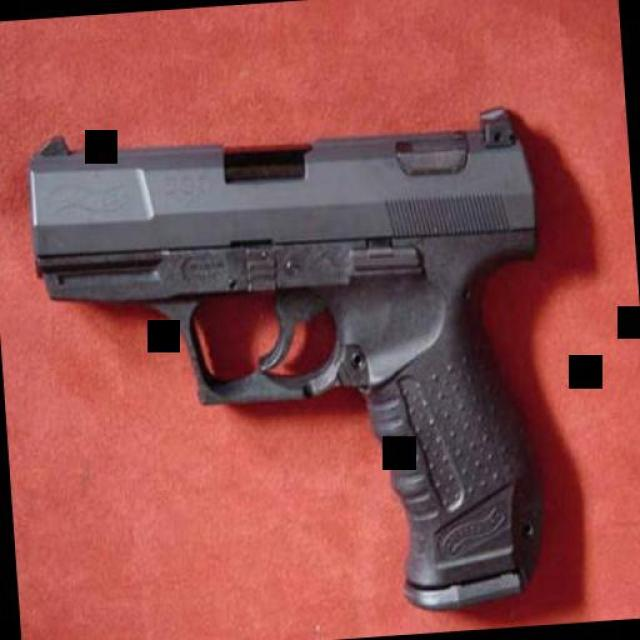gun: (21, 92, 562, 630)
